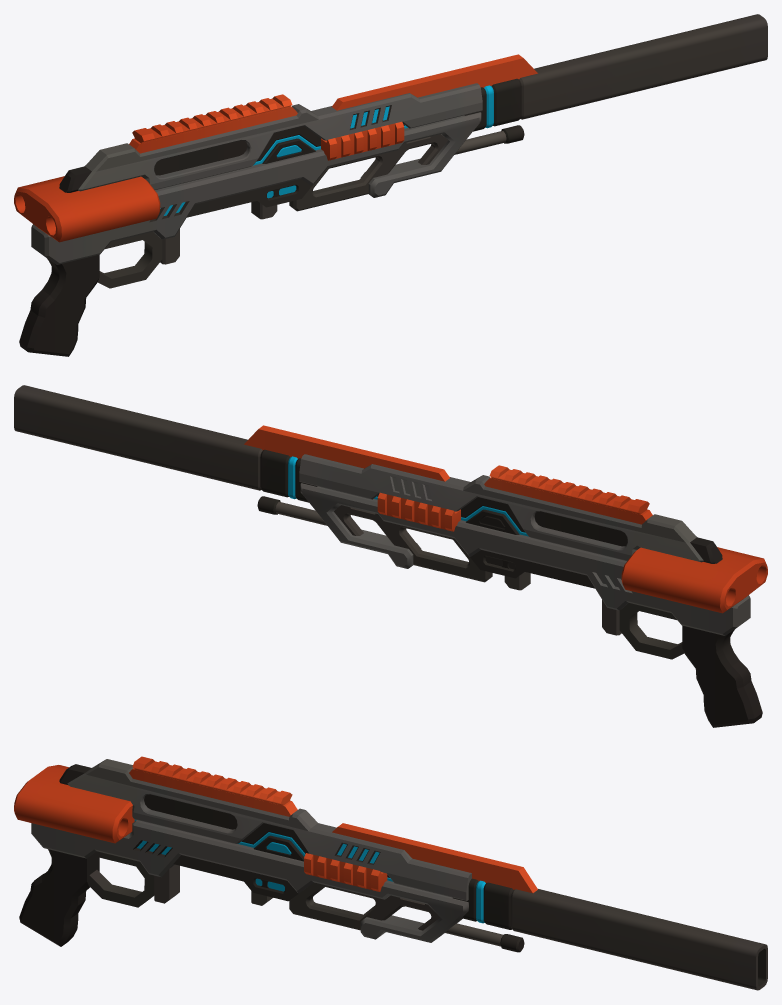
3 views of the same model, one above another, from view 1: azimuth 30°, elevation 25°; view 2: azimuth 150°, elevation 25°; view 3: azimuth 330°, elevation 25° (orthographic).
Visible parts, largest first — view 1: SR2_Base; view 2: SR2_Base; view 3: SR2_Base.
Part boxes in pixels (left/top/right/bottom): SR2_Base: left=14, top=14, right=767, bottom=356; SR2_Base: left=14, top=385, right=767, bottom=727; SR2_Base: left=14, top=756, right=767, bottom=990.
Bounding box in the file's own units: 95.15 × 24.98 × 10.48.
